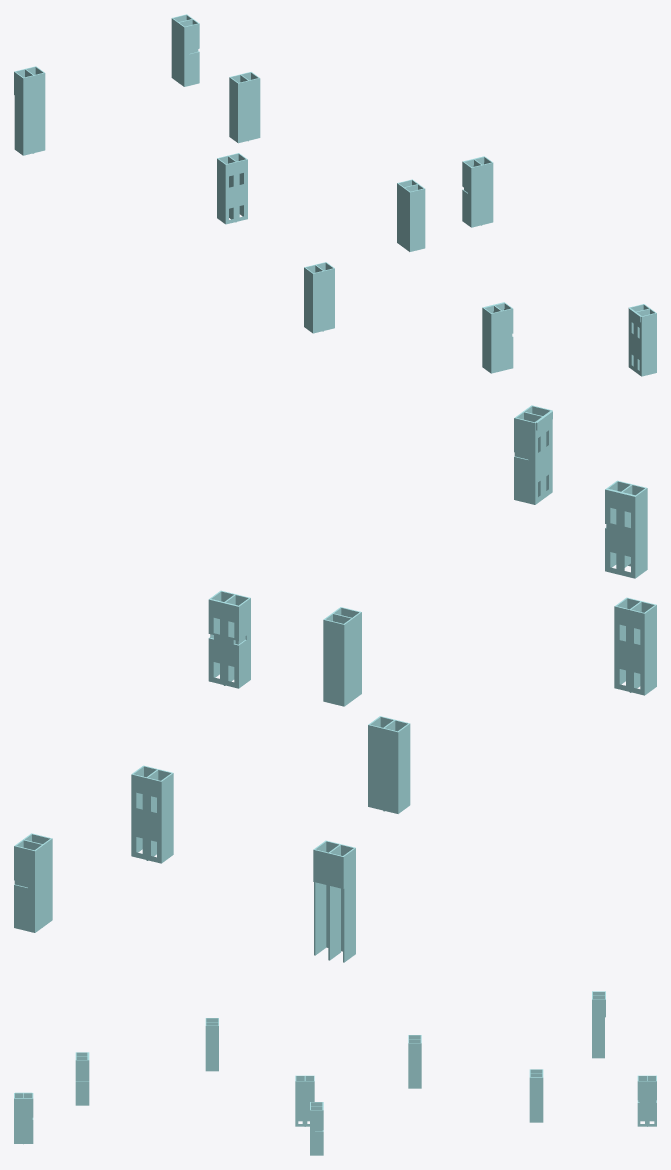
The model's file is portals-walls.glb.
The picture shows the model from 3 angles, top to bottom: view 1: azimuth 30°, elevation 25°; view 2: azimuth 150°, elevation 25°; view 3: azimuth 270°, elevation 25°; orthographic projection. The views are drawn at different scales.
Parts seen in each view (by area): view 1: I-WALL_lift_portals; view 2: I-WALL_lift_portals; view 3: I-WALL_lift_portals.
Part boxes in pixels (bbox=[...]): I-WALL_lift_portals: bbox=[14, 14, 656, 376]; I-WALL_lift_portals: bbox=[14, 405, 656, 962]; I-WALL_lift_portals: bbox=[14, 991, 656, 1155].
Bounding box in the file's own units: 55.35 × 14.6 × 143.
